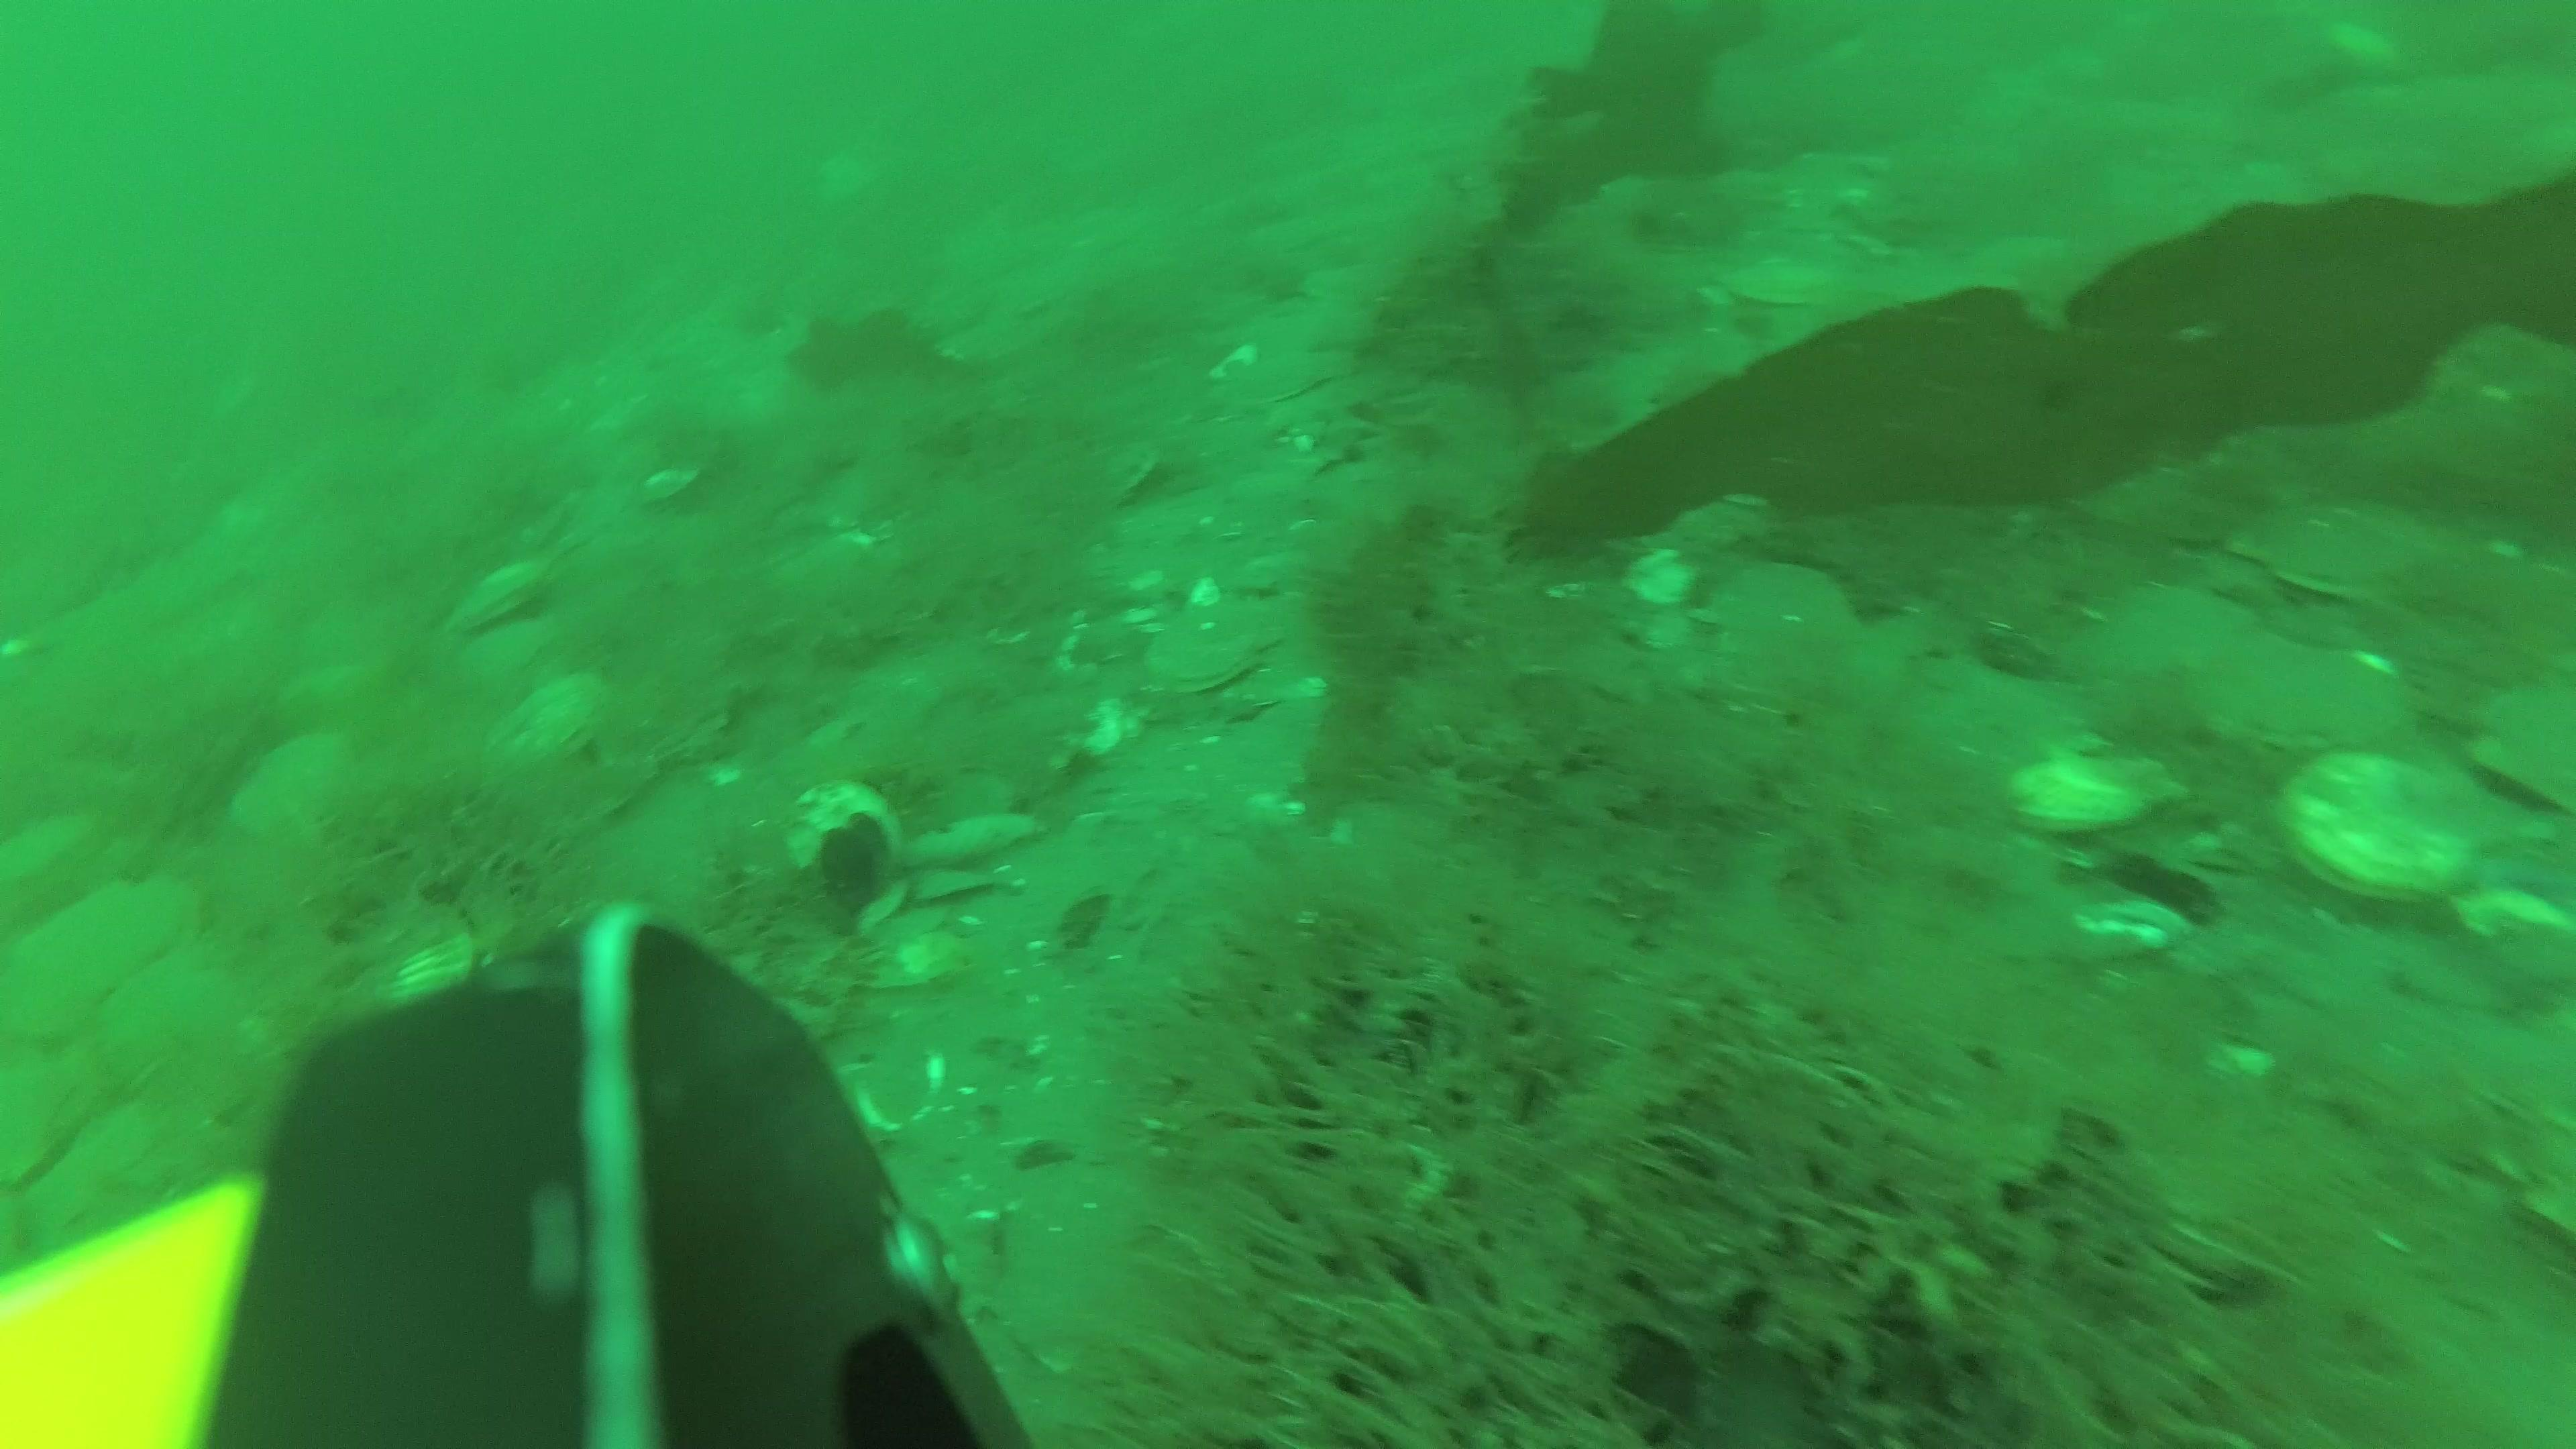scallop: (2284, 748, 2470, 893), (9, 881, 179, 1039), (2243, 476, 2420, 603), (2068, 577, 2254, 690), (2197, 632, 2374, 748), (2005, 738, 2180, 844), (345, 909, 478, 1031), (497, 672, 625, 787), (239, 741, 349, 867), (1141, 607, 1281, 694), (1231, 336, 1350, 412), (449, 552, 557, 635)
